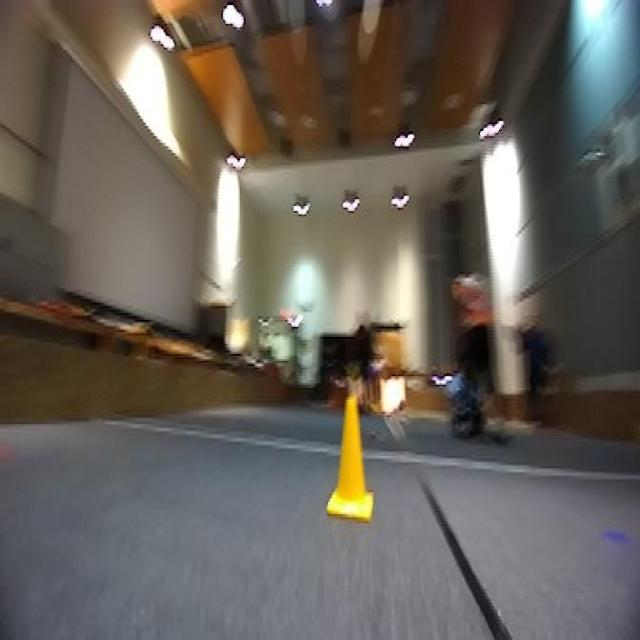frc_cone: (326, 397, 380, 519)
